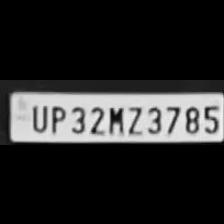2: (86, 102, 104, 134)
3: (68, 101, 86, 133), (143, 102, 161, 134)
5: (200, 100, 222, 134)
7: (162, 101, 180, 133)
8: (182, 102, 200, 134)
M: (104, 102, 124, 134)
P: (48, 102, 66, 132)
U: (27, 101, 47, 131)
Z: (124, 102, 142, 134)
